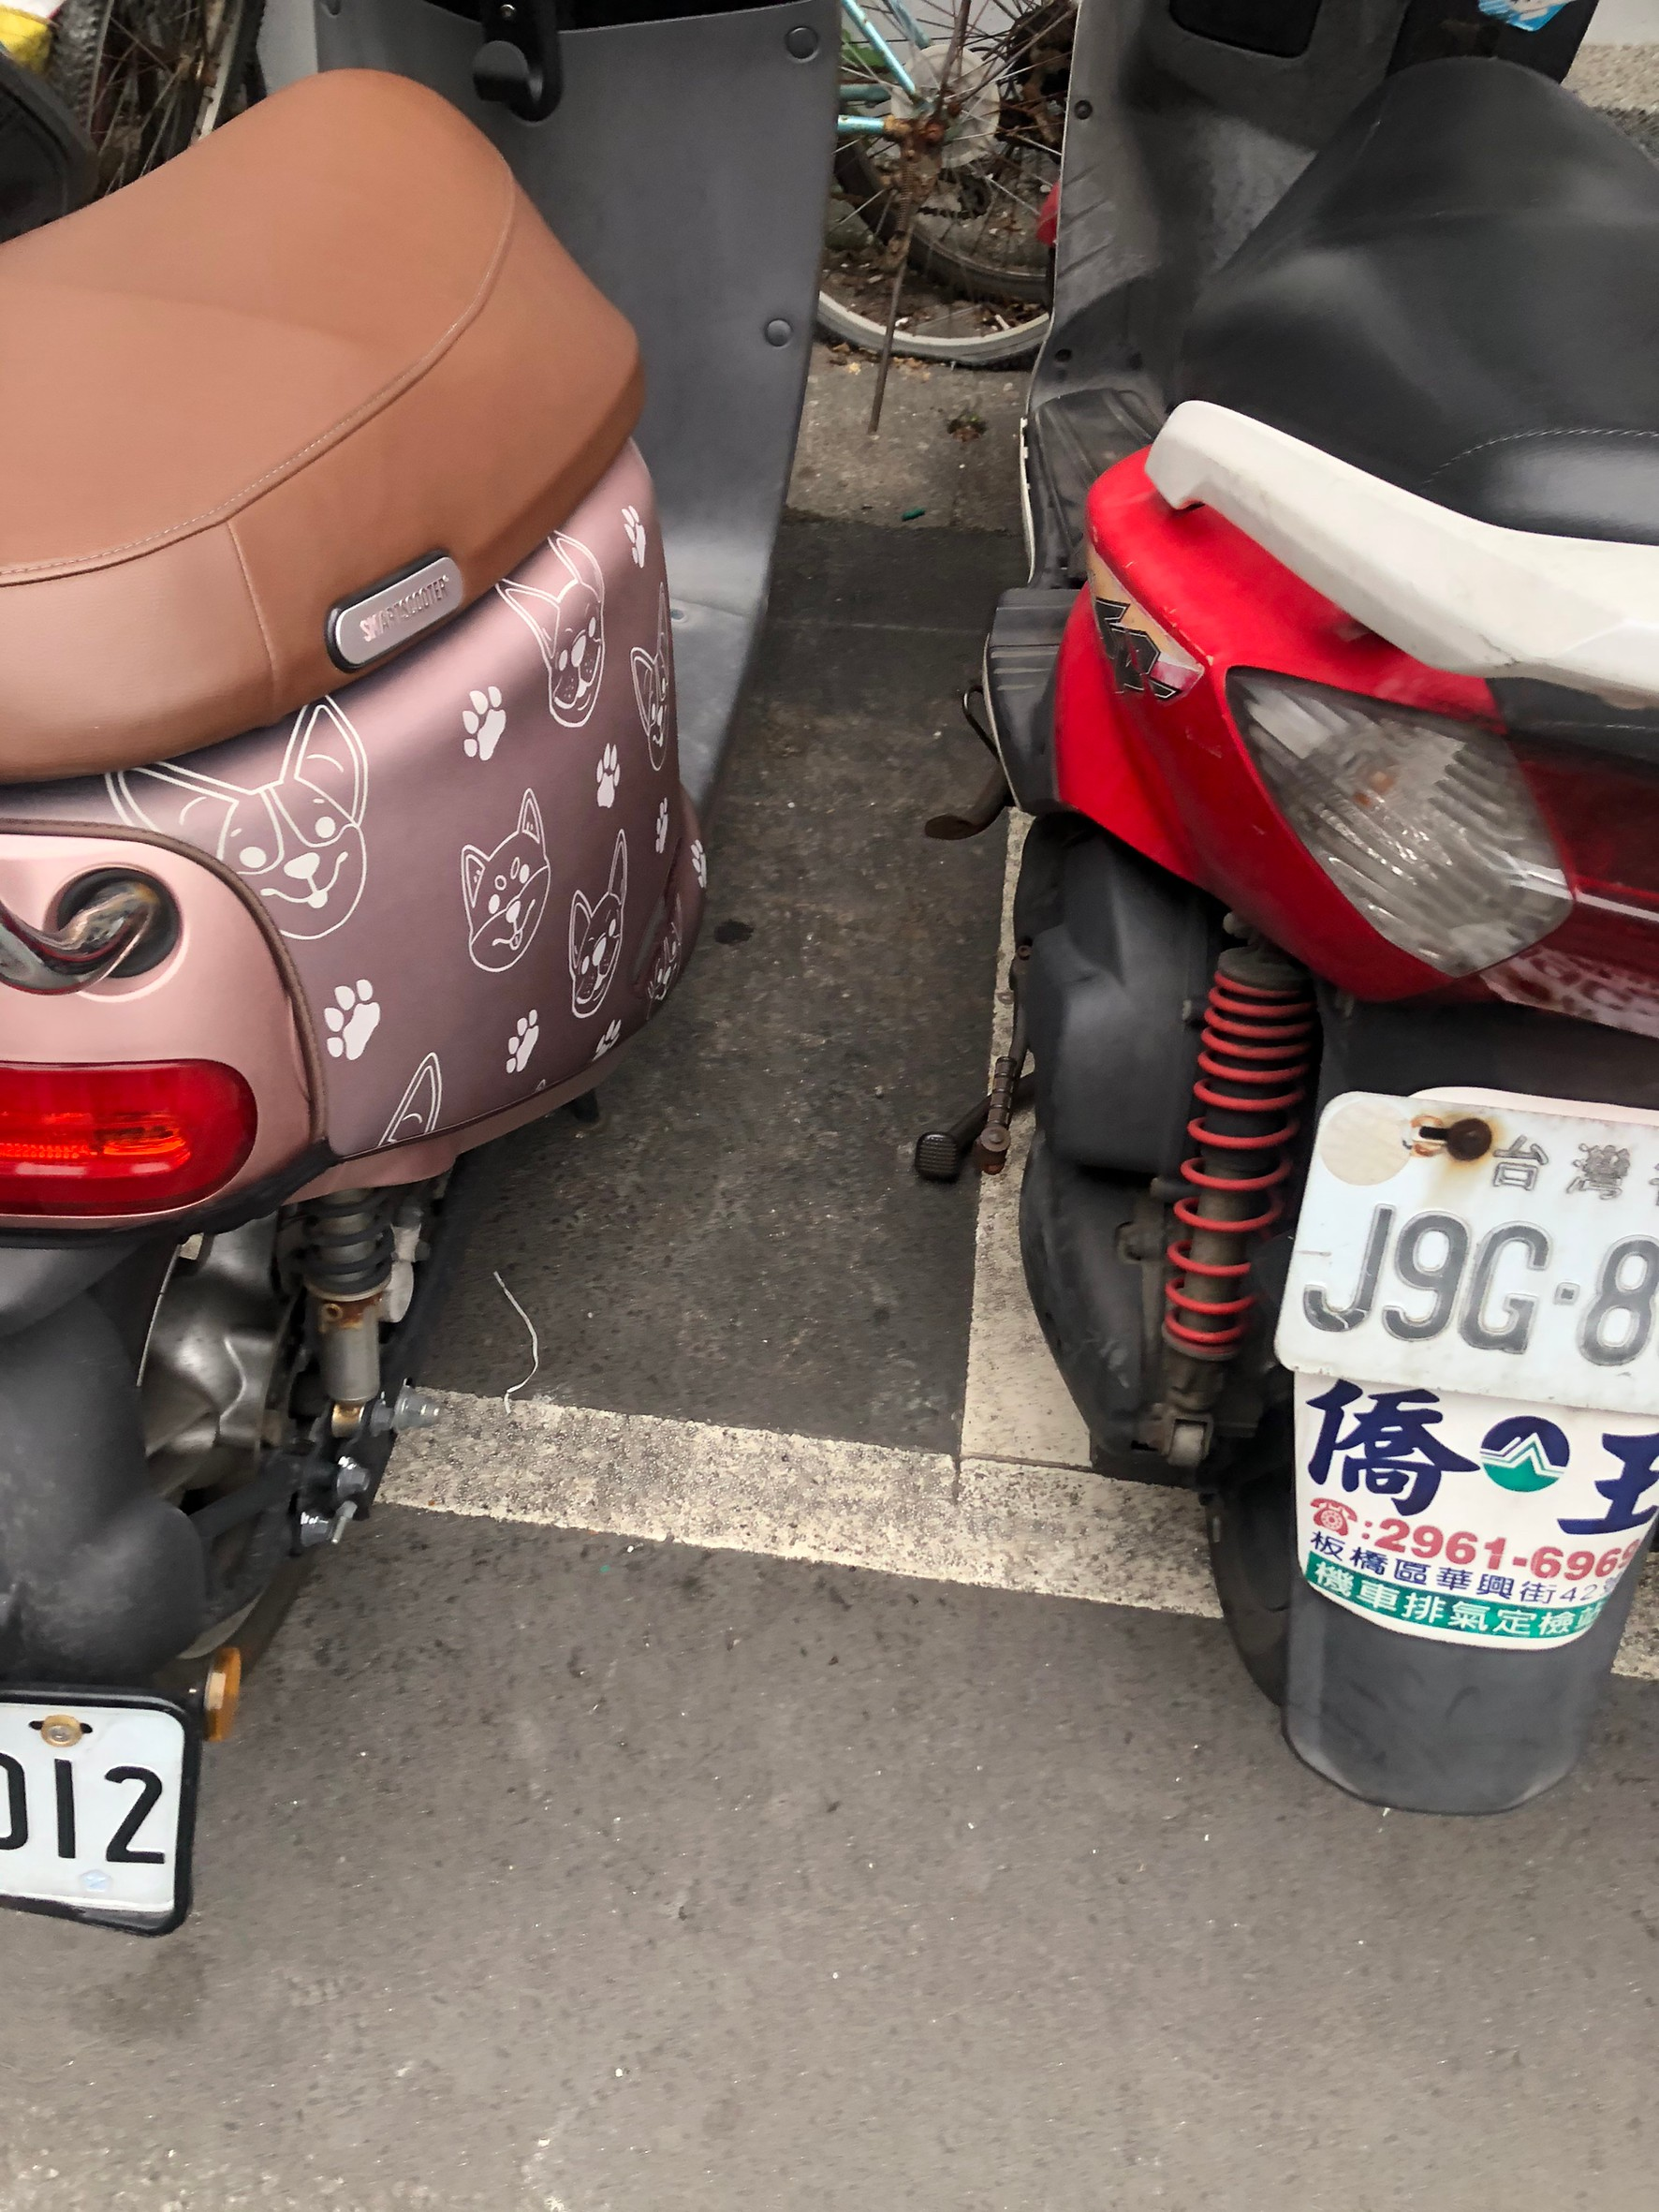LP: (1272, 1079, 1659, 1400), (2, 1705, 193, 1931)
